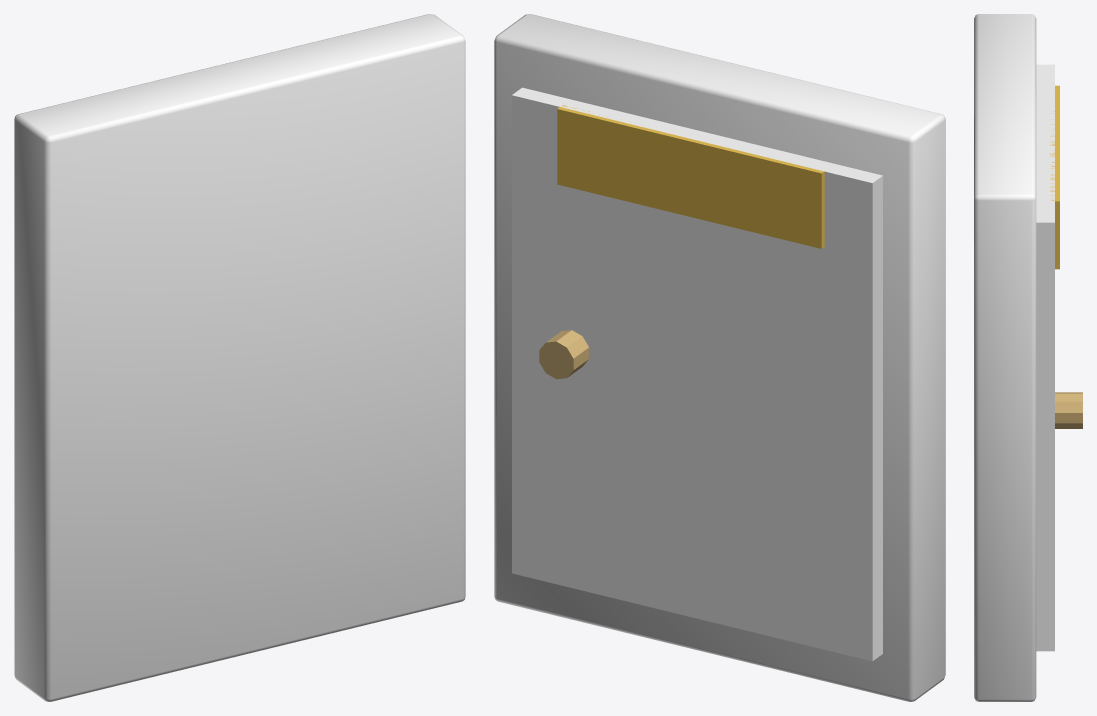
File: hm_bank_access_panel_v2.glb
3 renders of one model, left to right at view 1: azimuth 30°, elevation 25°; view 2: azimuth 150°, elevation 25°; view 3: azimuth 270°, elevation 25°, orthographic. The views are drawn at different scales.
Parts seen in each view (by area): view 1: AC_Panel; view 2: AC_Door, AC_Panel, AC_Warn, AC_Lock; view 3: AC_Panel, AC_Door, AC_Lock, AC_Warn.
Boxes of the visible parts, <box> form: AC_Panel: <box>14,14,465,701</box>; AC_Door: <box>512,87,882,661</box>; AC_Panel: <box>494,14,945,701</box>; AC_Warn: <box>557,105,824,248</box>; AC_Lock: <box>539,330,588,379</box>; AC_Panel: <box>974,14,1036,701</box>; AC_Door: <box>1036,64,1054,651</box>; AC_Lock: <box>1055,392,1082,428</box>; AC_Warn: <box>1050,85,1059,269</box>.
Size of the model in its own units: 0.35 by 0.45 by 0.0875.
